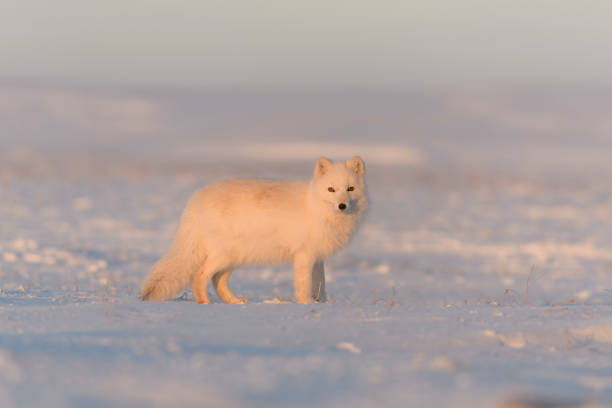arcticfox: (316, 169, 356, 225)
